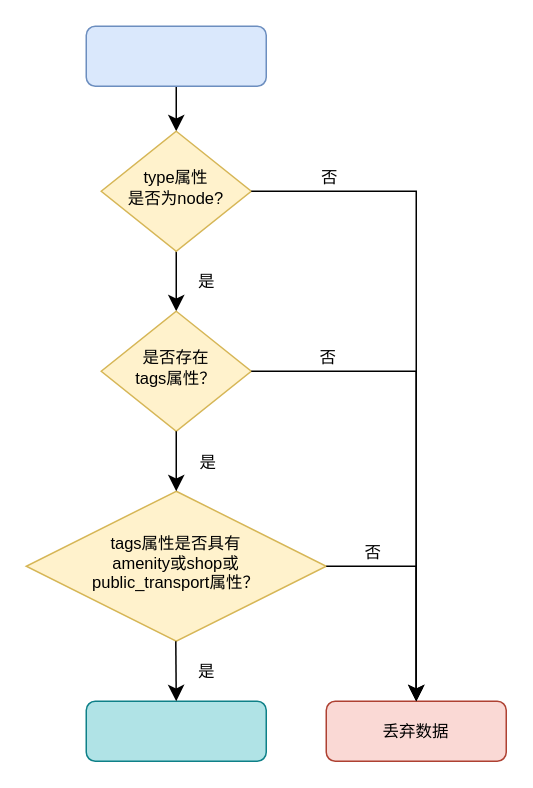
Image size: 533x788. Some labels were removed from this diagram. Here are the shapes that lost their labels. From the top down, the centre of each, then its label:
At pixel 175 55: "原始POI数据".
At pixel 175 730: "保留数据".
